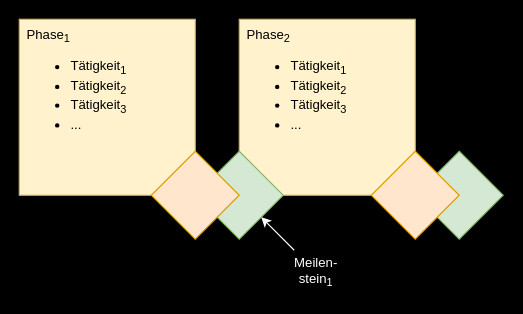
The diagram is 523 pixels wide and 314 high, and some of its shapes have lost their labels. The shapes that lost their labels are listed below. From the top down, each one's centre as x and y in pixels, then its label:
point 194,194: Quality- gate 1
point 414,194: Quality- gate 2
